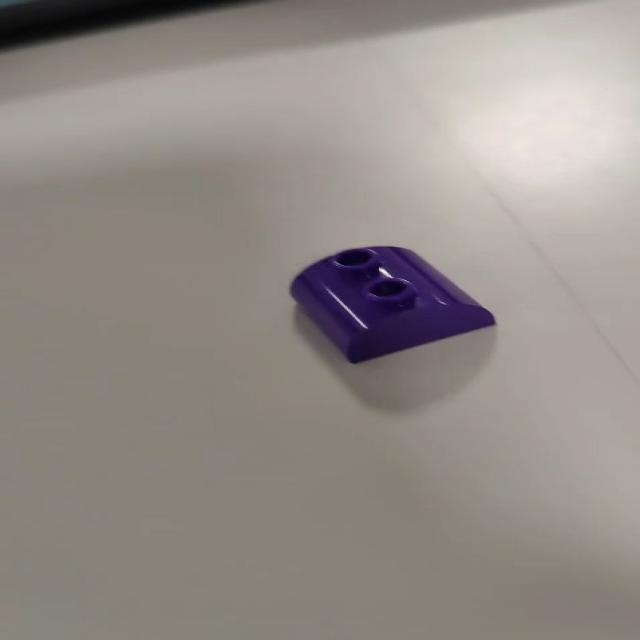H2x2x1: (284, 244, 498, 366)
